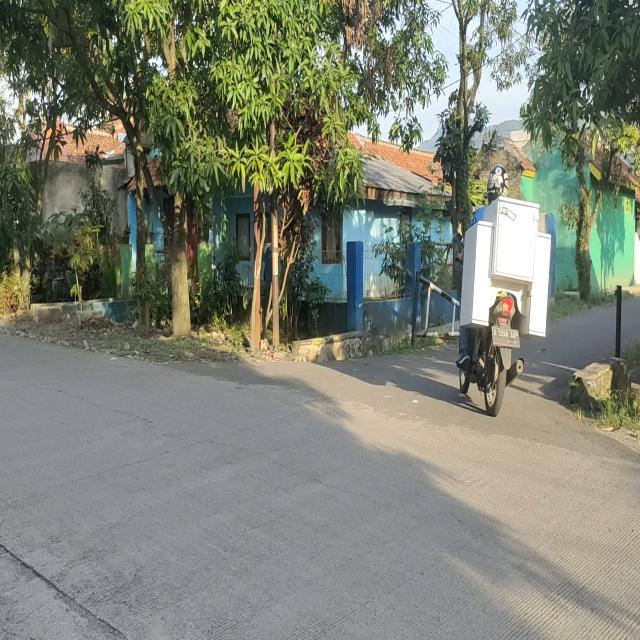helmet: (486, 161, 512, 202)
